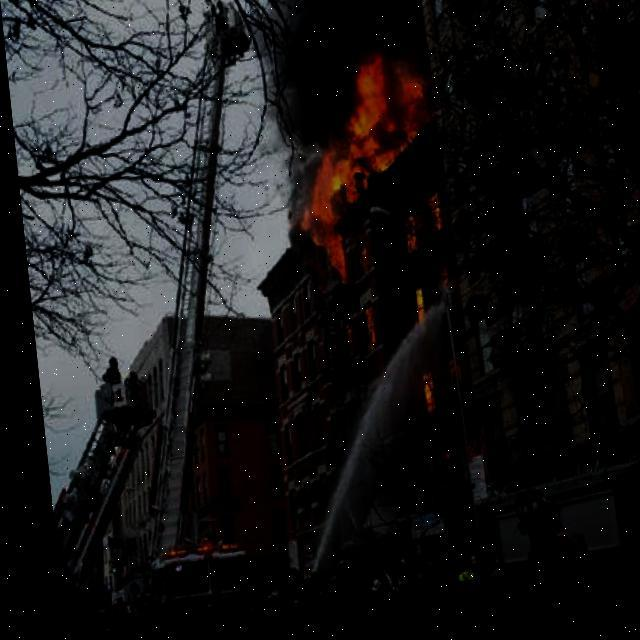Fire: (275, 44, 460, 434)
